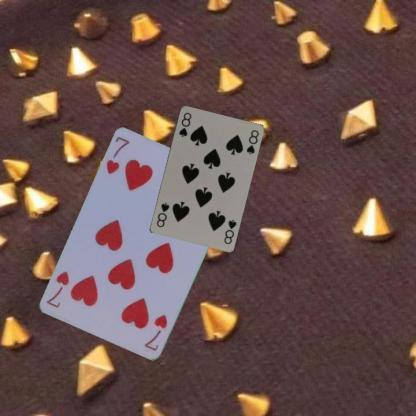7h: (104, 134, 132, 176), (142, 312, 168, 352)
8s: (221, 216, 238, 246), (176, 110, 192, 138)
